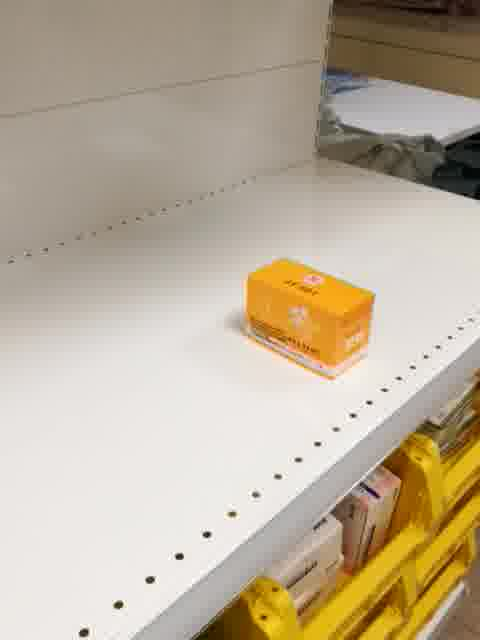jasminetea: (242, 254, 377, 381)
